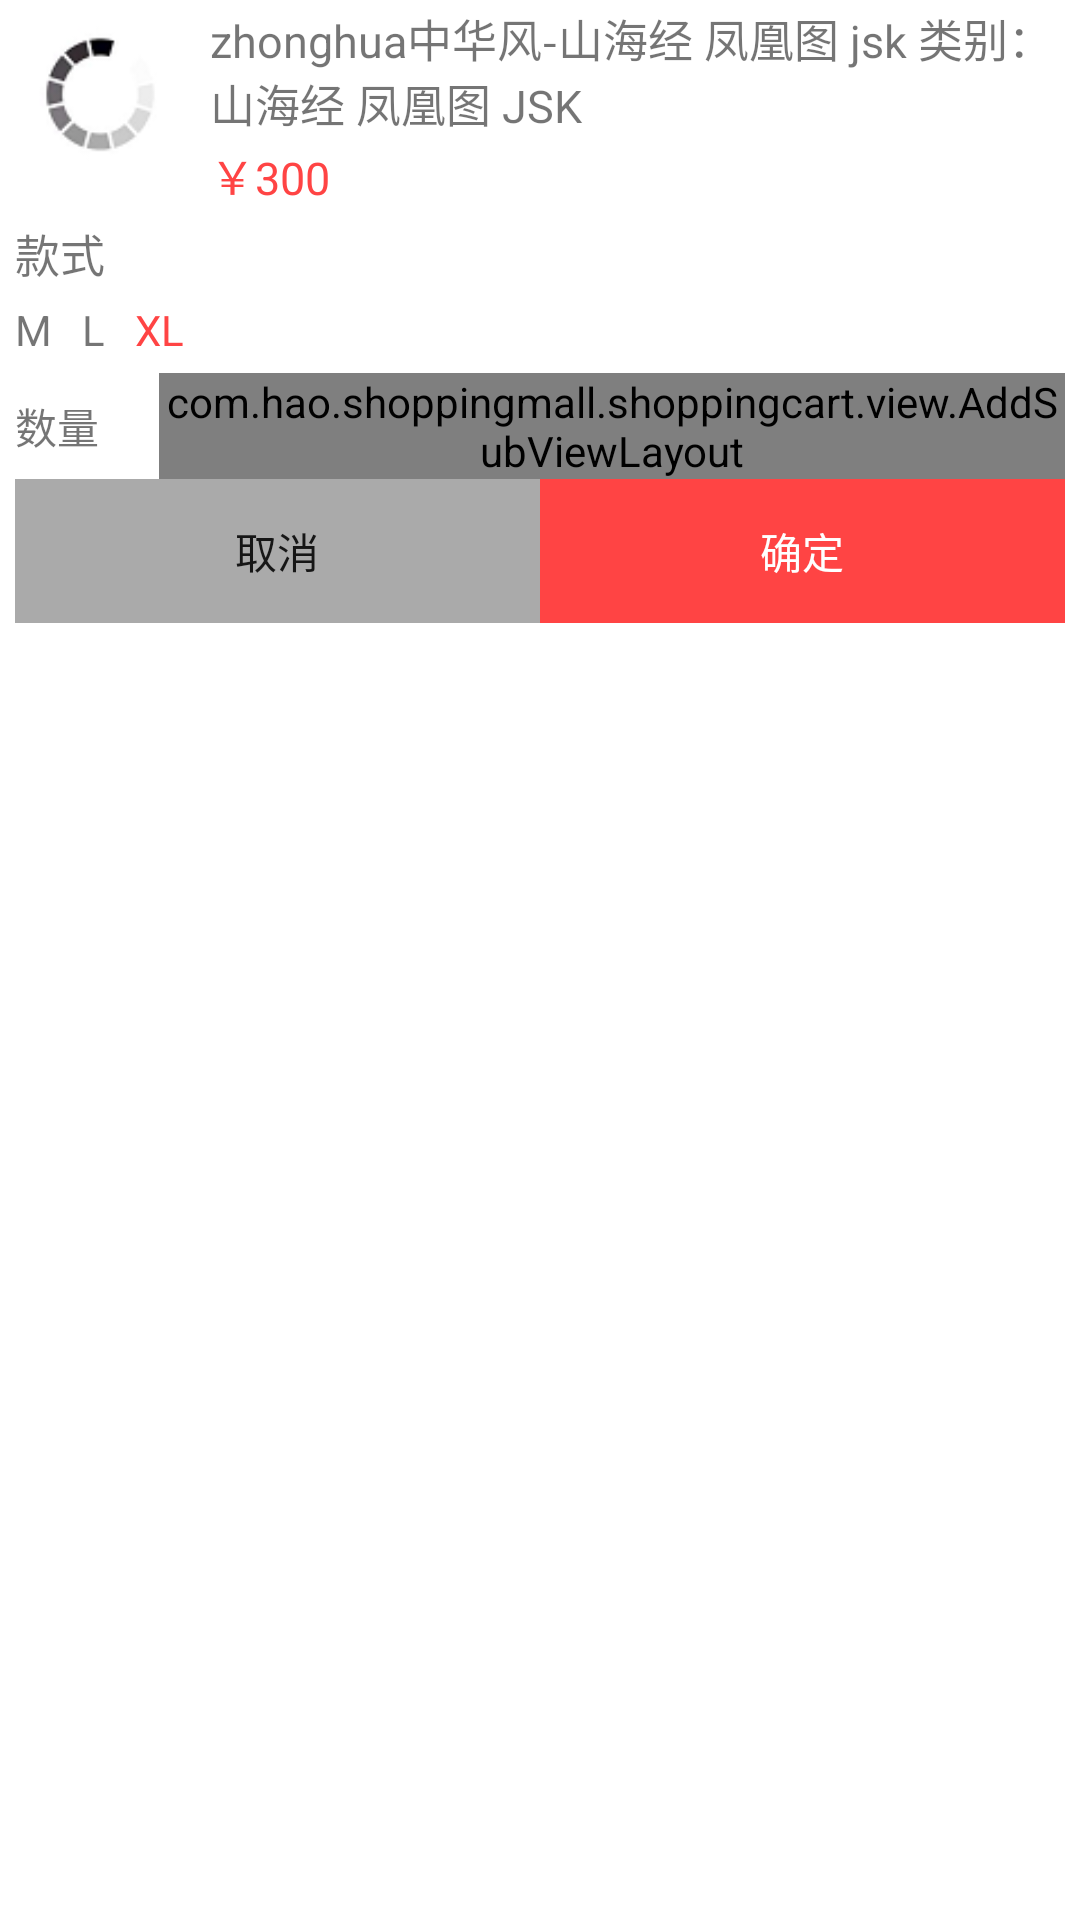

Named icons in this screenshot (1080px x 1920px) and their bounding boxes, (x1, y1, x2, y2):
loading: (46, 37, 150, 151)
